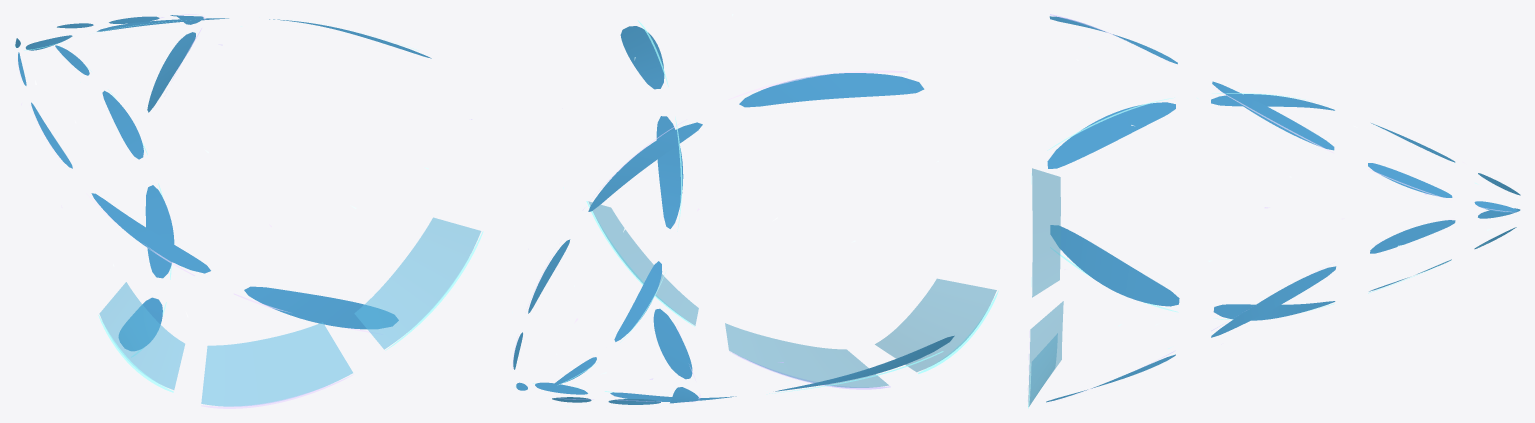
The model's file is wormhole-arena-rift-v4.glb.
The picture shows the model from 3 angles, left to right: view 1: azimuth 30°, elevation 25°; view 2: azimuth 150°, elevation 25°; view 3: azimuth 270°, elevation 25°; orthographic projection. The views are drawn at different scales.
Parts seen in each view (by area): view 1: asymmetric_combat_shelf, converging_wall_ribs, broken_shelf_edge, broken_rib_edges; view 2: converging_wall_ribs, asymmetric_combat_shelf, broken_rib_edges, broken_shelf_edge; view 3: converging_wall_ribs, asymmetric_combat_shelf, broken_rib_edges.
Part boxes in pixels (left/top/right/bottom): asymmetric_combat_shelf: left=99, top=217, right=480, bottom=406; converging_wall_ribs: left=15, top=15, right=431, bottom=351; broken_shelf_edge: left=98, top=231, right=483, bottom=408; broken_rib_edges: left=14, top=14, right=419, bottom=357; converging_wall_ribs: left=513, top=26, right=954, bottom=404; asymmetric_combat_shelf: left=588, top=201, right=996, bottom=387; broken_rib_edges: left=512, top=20, right=943, bottom=402; broken_shelf_edge: left=586, top=201, right=998, bottom=389; converging_wall_ribs: left=1046, top=16, right=1520, bottom=402; asymmetric_combat_shelf: left=1028, top=168, right=1063, bottom=406; broken_rib_edges: left=1047, top=14, right=1516, bottom=391.
Size of the model in its own units: 143 by 123 by 159.
